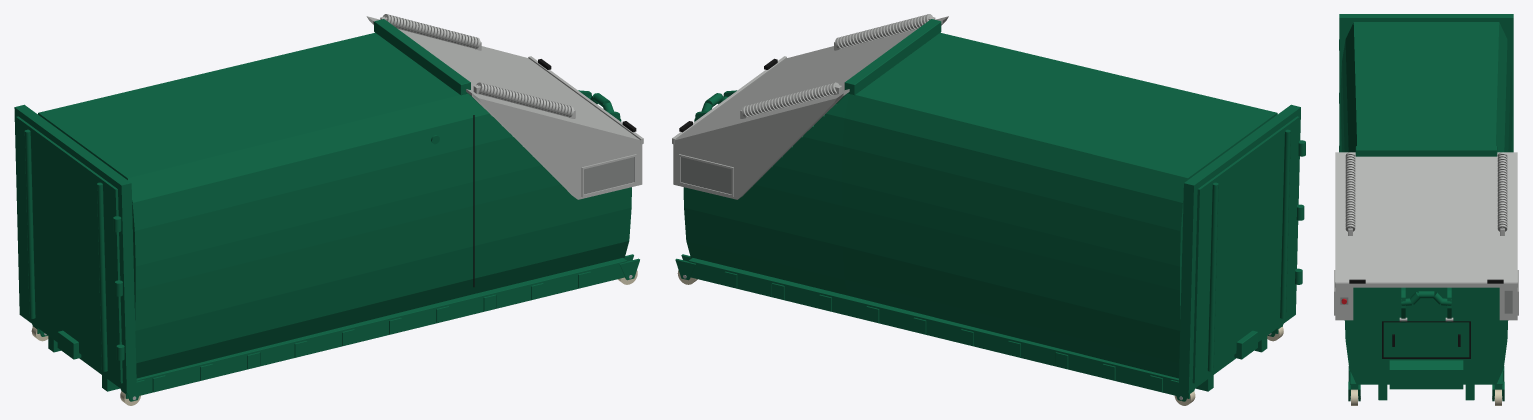
Rendered from modelo.glb.
3 renders of one model, left to right at view 1: azimuth 30°, elevation 25°; view 2: azimuth 150°, elevation 25°; view 3: azimuth 270°, elevation 25°, orthographic. The views are drawn at different scales.
Visible parts, largest first — view 1: Pottinger_CompactadorHidraulico; view 2: Pottinger_CompactadorHidraulico; view 3: Pottinger_CompactadorHidraulico.
Boxes of the visible parts, box(x1,y1,x2,y2) form: Pottinger_CompactadorHidraulico: box(14, 14, 643, 405); Pottinger_CompactadorHidraulico: box(672, 14, 1305, 405); Pottinger_CompactadorHidraulico: box(1334, 14, 1518, 405).
Bounding box in the file's own units: 6.22 × 2.6 × 2.25.
